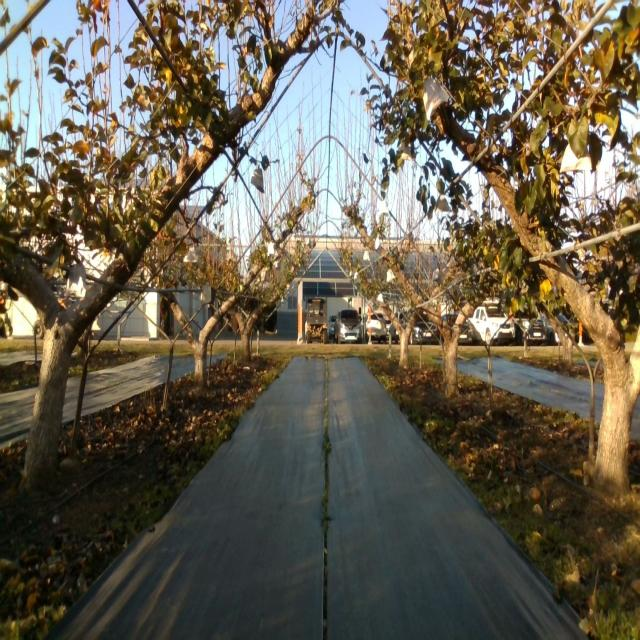pearbags: (422, 75, 450, 123), (558, 140, 592, 174), (62, 256, 87, 298), (250, 165, 264, 192), (436, 194, 450, 213)
